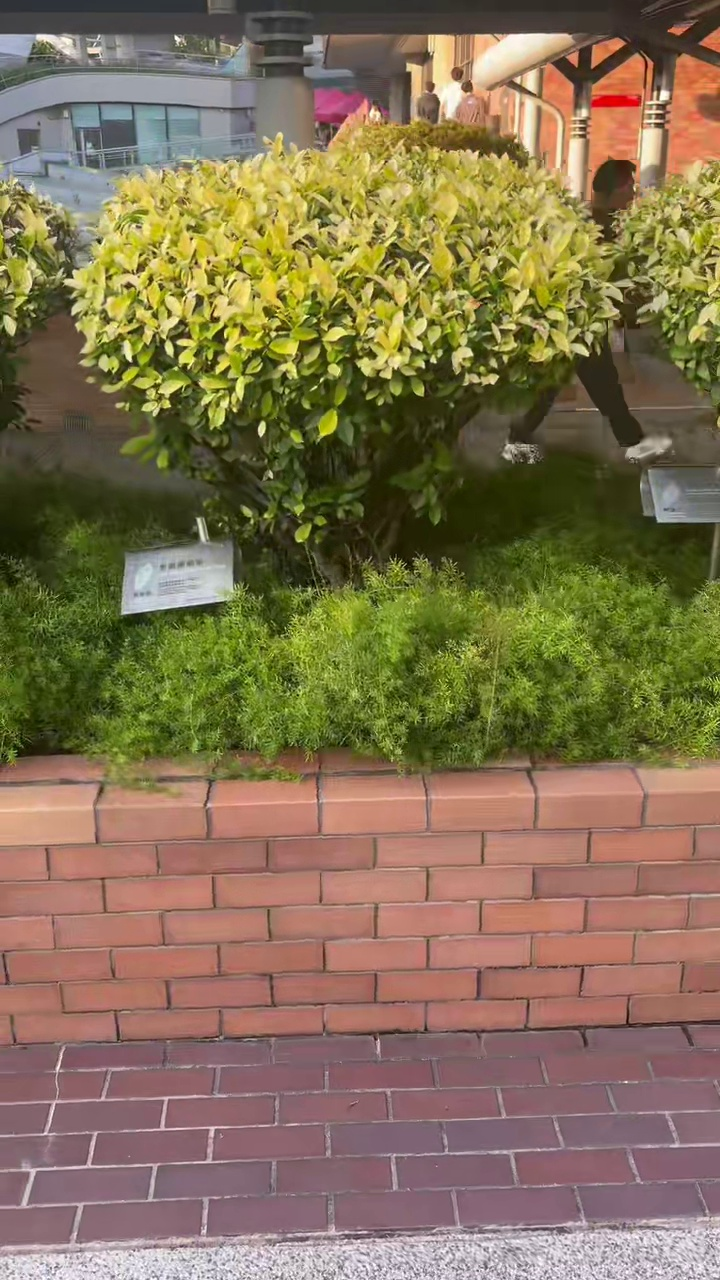Golden-leaves Fig: (72, 136, 619, 582)
